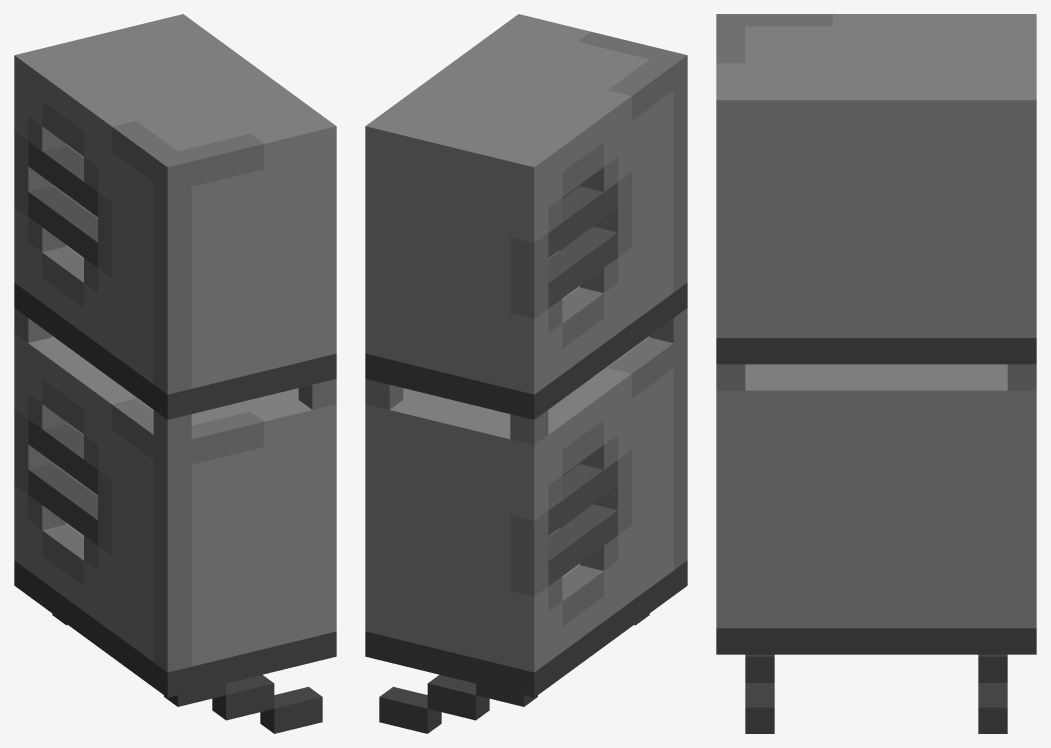
Rendered from condenserUnitTypeD.glb.
3 renders of one model, left to right at view 1: azimuth 30°, elevation 25°; view 2: azimuth 150°, elevation 25°; view 3: azimuth 270°, elevation 25°, orthographic. The views are drawn at different scales.
Parts seen in each view (by area): view 1: ObjObject; view 2: ObjObject; view 3: ObjObject.
Boxes of the visible parts, <box> form: ObjObject: <box>14,14,336,733</box>; ObjObject: <box>365,14,687,733</box>; ObjObject: <box>716,14,1036,733</box>.
Bounding box in the file's own units: 0.7 × 2.4 × 1.1.
Materials: 1 (1 with a texture image).
